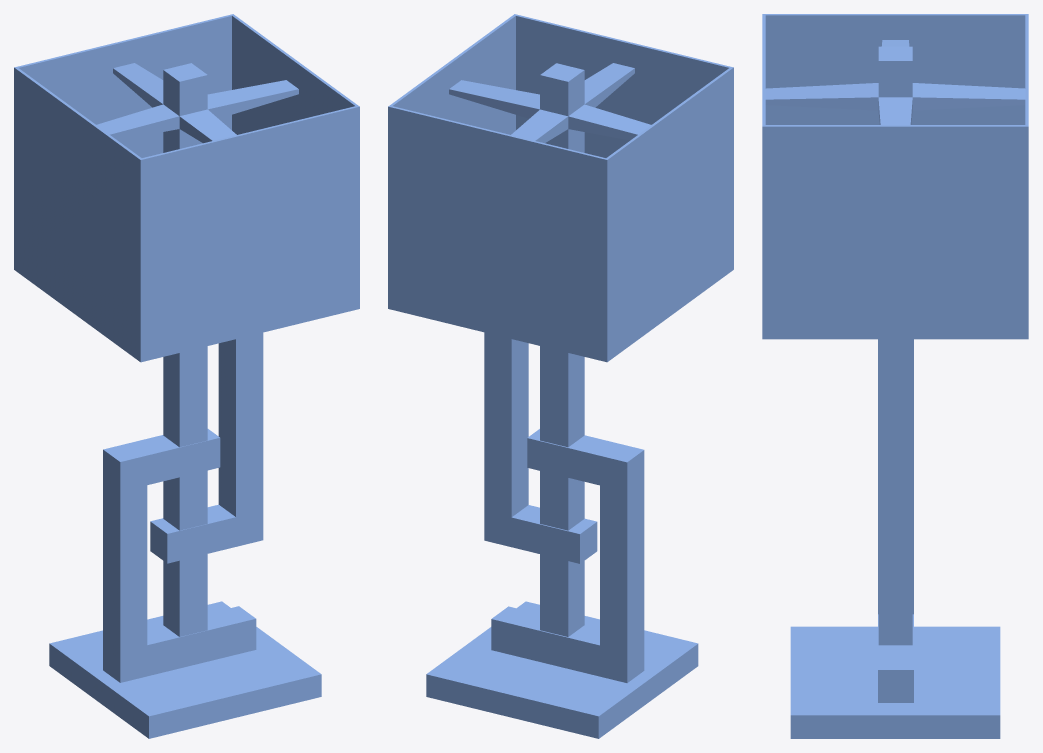
File: Lamp_1.FBX
3 views of the same model, side by side, from view 1: azimuth 30°, elevation 25°; view 2: azimuth 150°, elevation 25°; view 3: azimuth 270°, elevation 25° (orthographic). The views are drawn at different scales.
Parts seen in each view (by area): view 1: Lamp_1; view 2: Lamp_1; view 3: Lamp_1.
Part boxes in pixels (box(x1,y1,x2,y2)): Lamp_1: box(14, 14, 359, 738); Lamp_1: box(388, 14, 733, 738); Lamp_1: box(762, 14, 1028, 738).
Size of the model in its own units: 0.3477 by 0.9231 by 0.3477.
